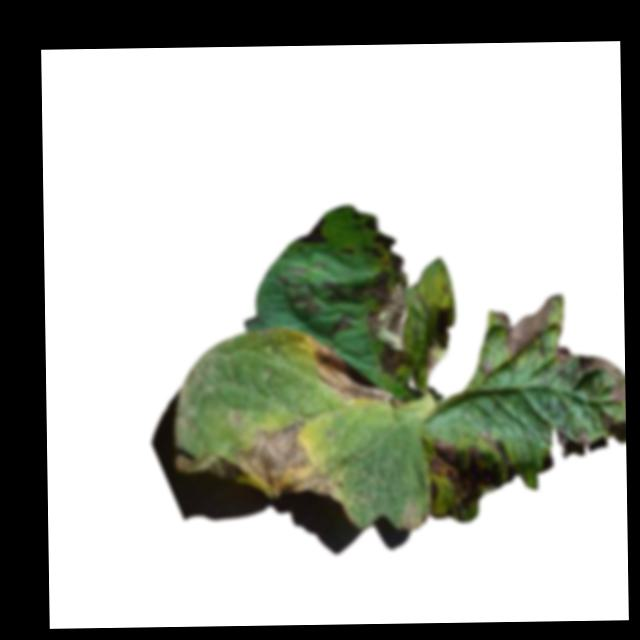Early_blight: (324, 253, 411, 373), (234, 416, 336, 500), (428, 429, 516, 510), (313, 342, 405, 409), (493, 294, 556, 365), (556, 347, 624, 403), (295, 212, 329, 245), (436, 303, 453, 347), (371, 232, 396, 254), (577, 426, 595, 445)
